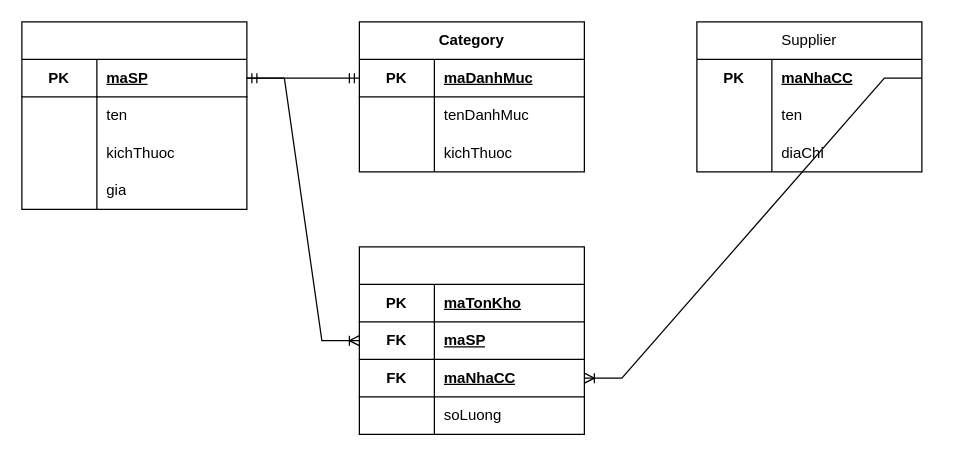
This 954x456 diagram has some shape labels left out. Each missing label, with the box of its shape:
Product: (21, 21, 247, 209)
Stock: (358, 246, 584, 434)
